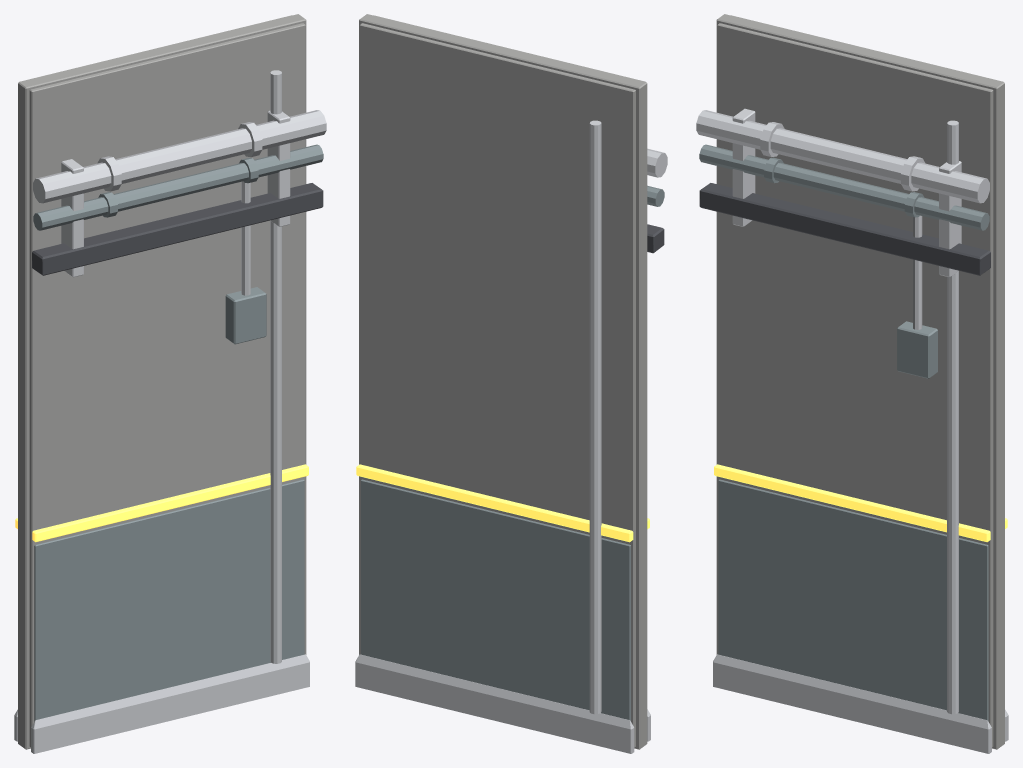
File: cyberpunk-apartment-and-neon-block-corridor-wall-run-w-435a3bec__37784.glb
3 renders of one model, left to right at view 1: azimuth 30°, elevation 25°; view 2: azimuth 150°, elevation 25°; view 3: azimuth 330°, elevation 25°, orthographic.
Visible parts, largest first — view 1: corridor-wall-run-with-pipes; view 2: corridor-wall-run-with-pipes; view 3: corridor-wall-run-with-pipes.
Part boxes in pixels (bbox=[...]): corridor-wall-run-with-pipes: bbox=[14, 14, 326, 753]; corridor-wall-run-with-pipes: bbox=[355, 14, 667, 753]; corridor-wall-run-with-pipes: bbox=[696, 14, 1008, 753].
Size of the model in its own units: 1.2 by 2.7 by 0.2924.
